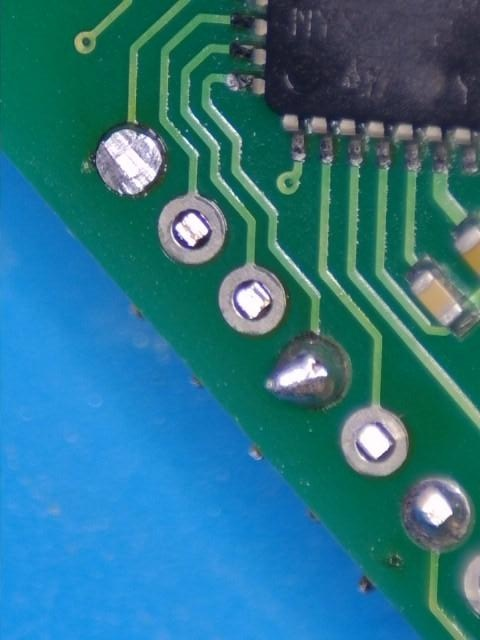pcb_defect: (266, 332, 346, 407), (402, 479, 469, 548)
